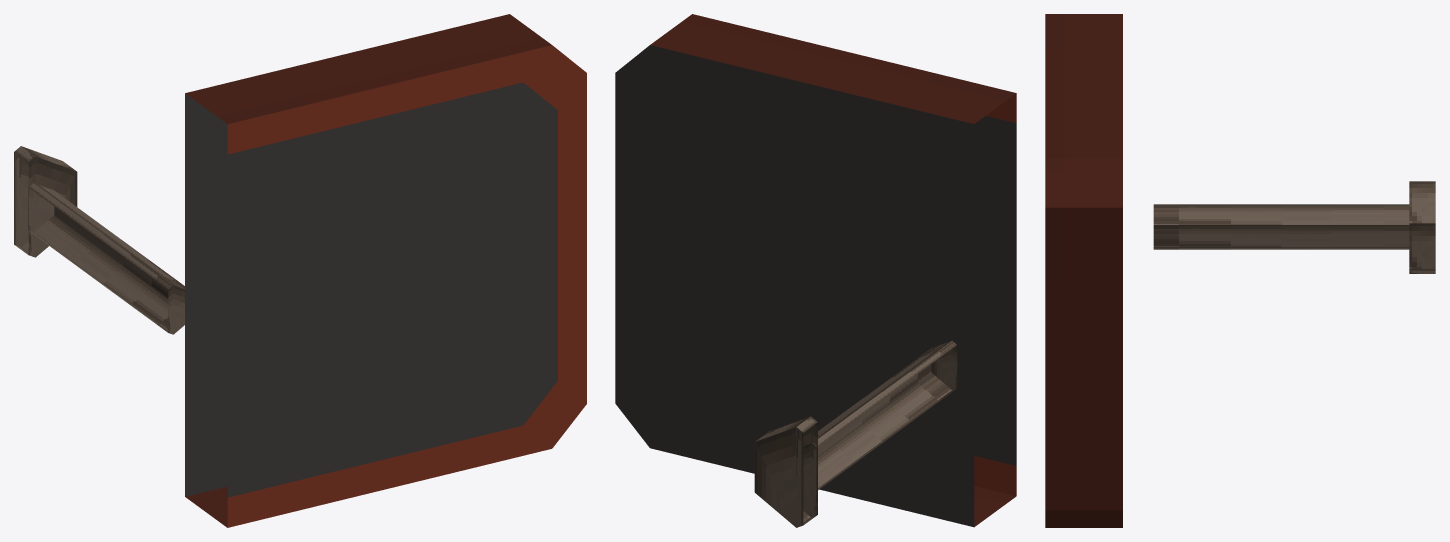
Rendered from pz_g019_pizza_dinner_table_part0.obj.
3 renders of one model, left to right at view 1: azimuth 30°, elevation 25°; view 2: azimuth 150°, elevation 25°; view 3: azimuth 270°, elevation 25°, orthographic. The views are drawn at different scales.
Visible parts, largest first — view 1: tabletop_top, tabletop_rim, tabletop_bottom, tabletop_edge, pedestal_0_side, pedestal_1_cap1, pedestal_1_cap0, pedestal_0_cap1; view 2: tabletop_bottom, tabletop_top, tabletop_edge, pedestal_0_side, pedestal_1_cap0, tabletop_rim, pedestal_0_cap1, pedestal_1_cap1, pedestal_0_cap0, pedestal_1_side; view 3: tabletop_edge, pedestal_0_side, pedestal_1_side.
Part boxes in pixels (bbox=[...]): tabletop_top: bbox=[227, 82, 557, 497]; tabletop_rim: bbox=[227, 45, 586, 527]; tabletop_bottom: bbox=[185, 93, 227, 496]; tabletop_edge: bbox=[185, 14, 551, 527]; pedestal_0_side: bbox=[28, 183, 184, 332]; pedestal_1_cap1: bbox=[28, 156, 77, 257]; pedestal_1_cap0: bbox=[14, 152, 28, 246]; pedestal_0_cap1: bbox=[168, 285, 184, 334]; tabletop_bottom: bbox=[615, 45, 974, 527]; tabletop_top: bbox=[974, 116, 1016, 465]; tabletop_edge: bbox=[650, 14, 1016, 526]; pedestal_0_side: bbox=[813, 341, 956, 489]; pedestal_1_cap0: bbox=[754, 427, 803, 527]; tabletop_rim: bbox=[974, 93, 1016, 496]; pedestal_0_cap1: bbox=[931, 345, 957, 389]; pedestal_1_cap1: bbox=[803, 422, 817, 517]; pedestal_0_cap0: bbox=[803, 443, 817, 492]; pedestal_1_side: bbox=[755, 416, 817, 525]; tabletop_edge: bbox=[1045, 14, 1122, 527]; pedestal_0_side: bbox=[1153, 204, 1409, 249]; pedestal_1_side: bbox=[1409, 181, 1435, 273].
Bounding box in the file's own units: 0.9324 × 1 × 0.9594.
Materials: 1 (1 with a texture image).
